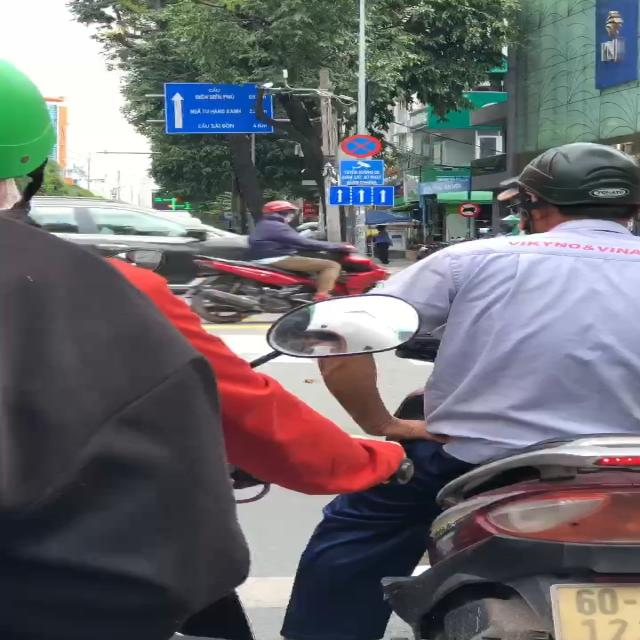Bien bao cam dung xe va do xe: (340, 135, 384, 157)
